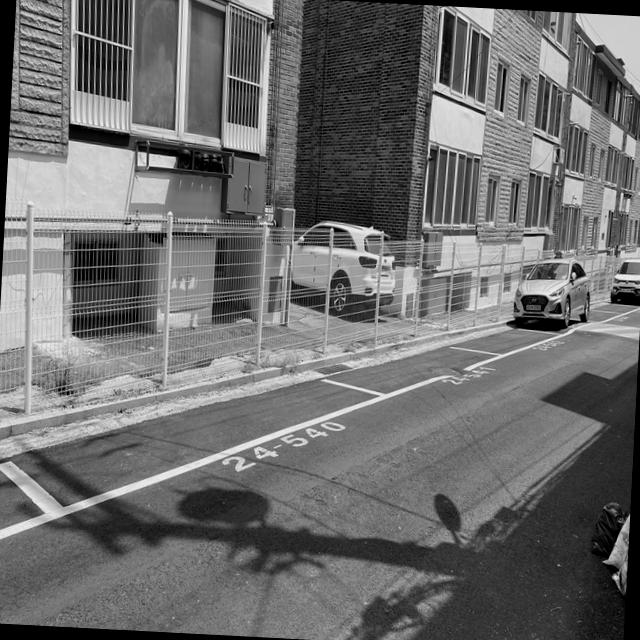free: (0, 375, 396, 521), (315, 341, 512, 406)
